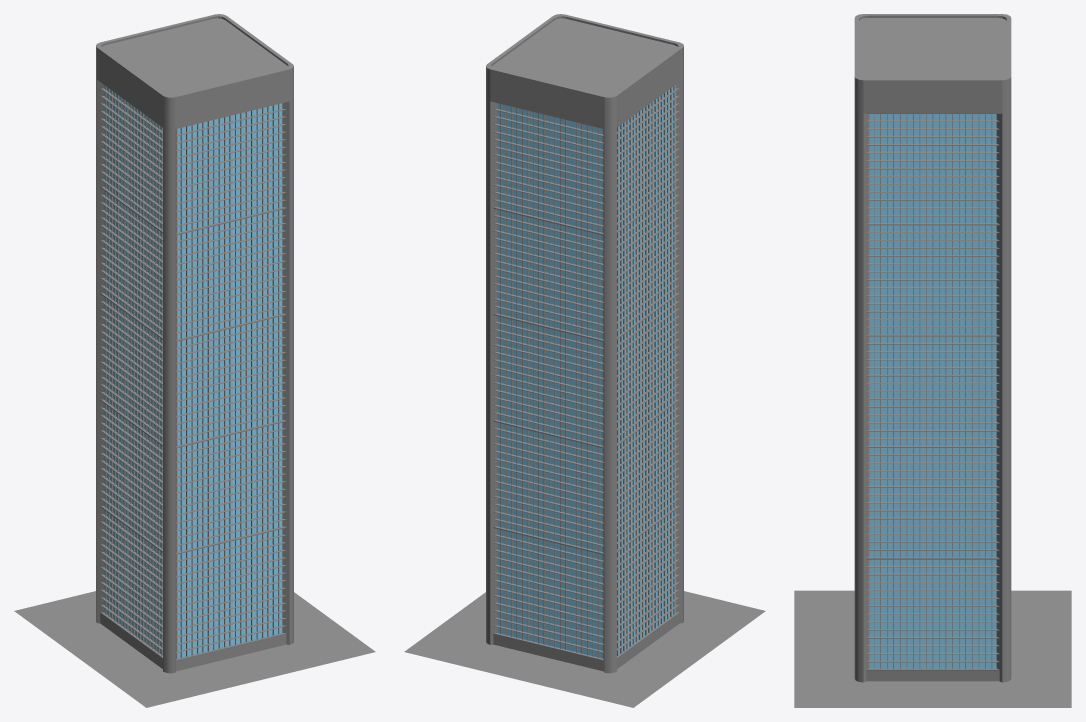
The model's file is SkyScraperA.FBX.
3 views of the same model, side by side, from view 1: azimuth 30°, elevation 25°; view 2: azimuth 150°, elevation 25°; view 3: azimuth 270°, elevation 25° (orthographic). The views are drawn at different scales.
Visible parts, largest first — view 1: Gengon01, Plane01; view 2: Gengon01, Plane01; view 3: Gengon01, Plane01.
Part boxes in pixels (x1=…): Gengon01: x1=96, y1=14, x2=293, y2=673; Plane01: x1=14, y1=591, x2=375, y2=707; Gengon01: x1=486, y1=14, x2=683, y2=673; Plane01: x1=404, y1=591, x2=765, y2=707; Gengon01: x1=854, y1=14, x2=1011, y2=682; Plane01: x1=794, y1=590, x2=1071, y2=707.
Size of the model in its own units: 300 by 719 by 300.
